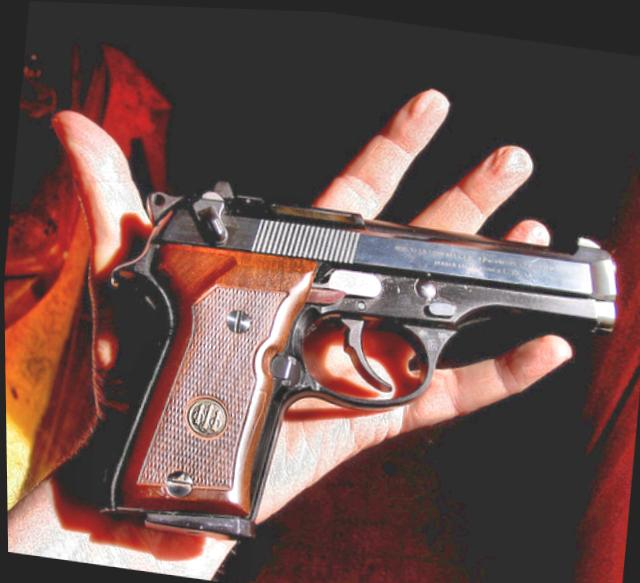pistol: (85, 163, 624, 583)
